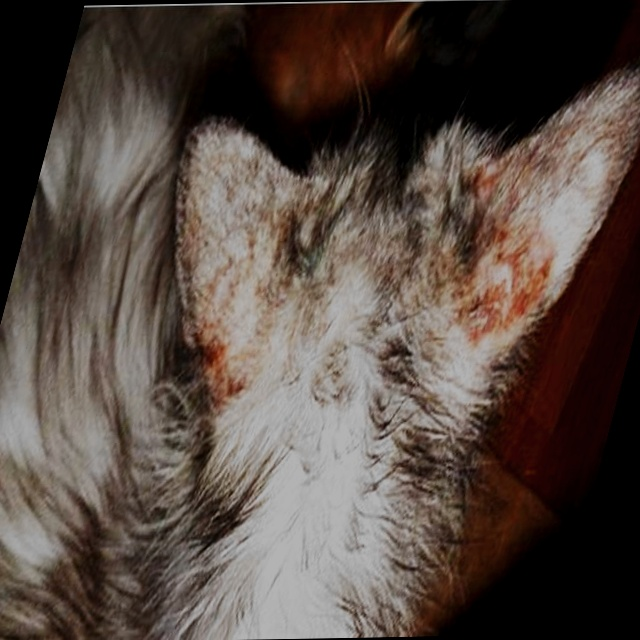ringworm: (426, 190, 584, 335), (161, 286, 273, 417)
